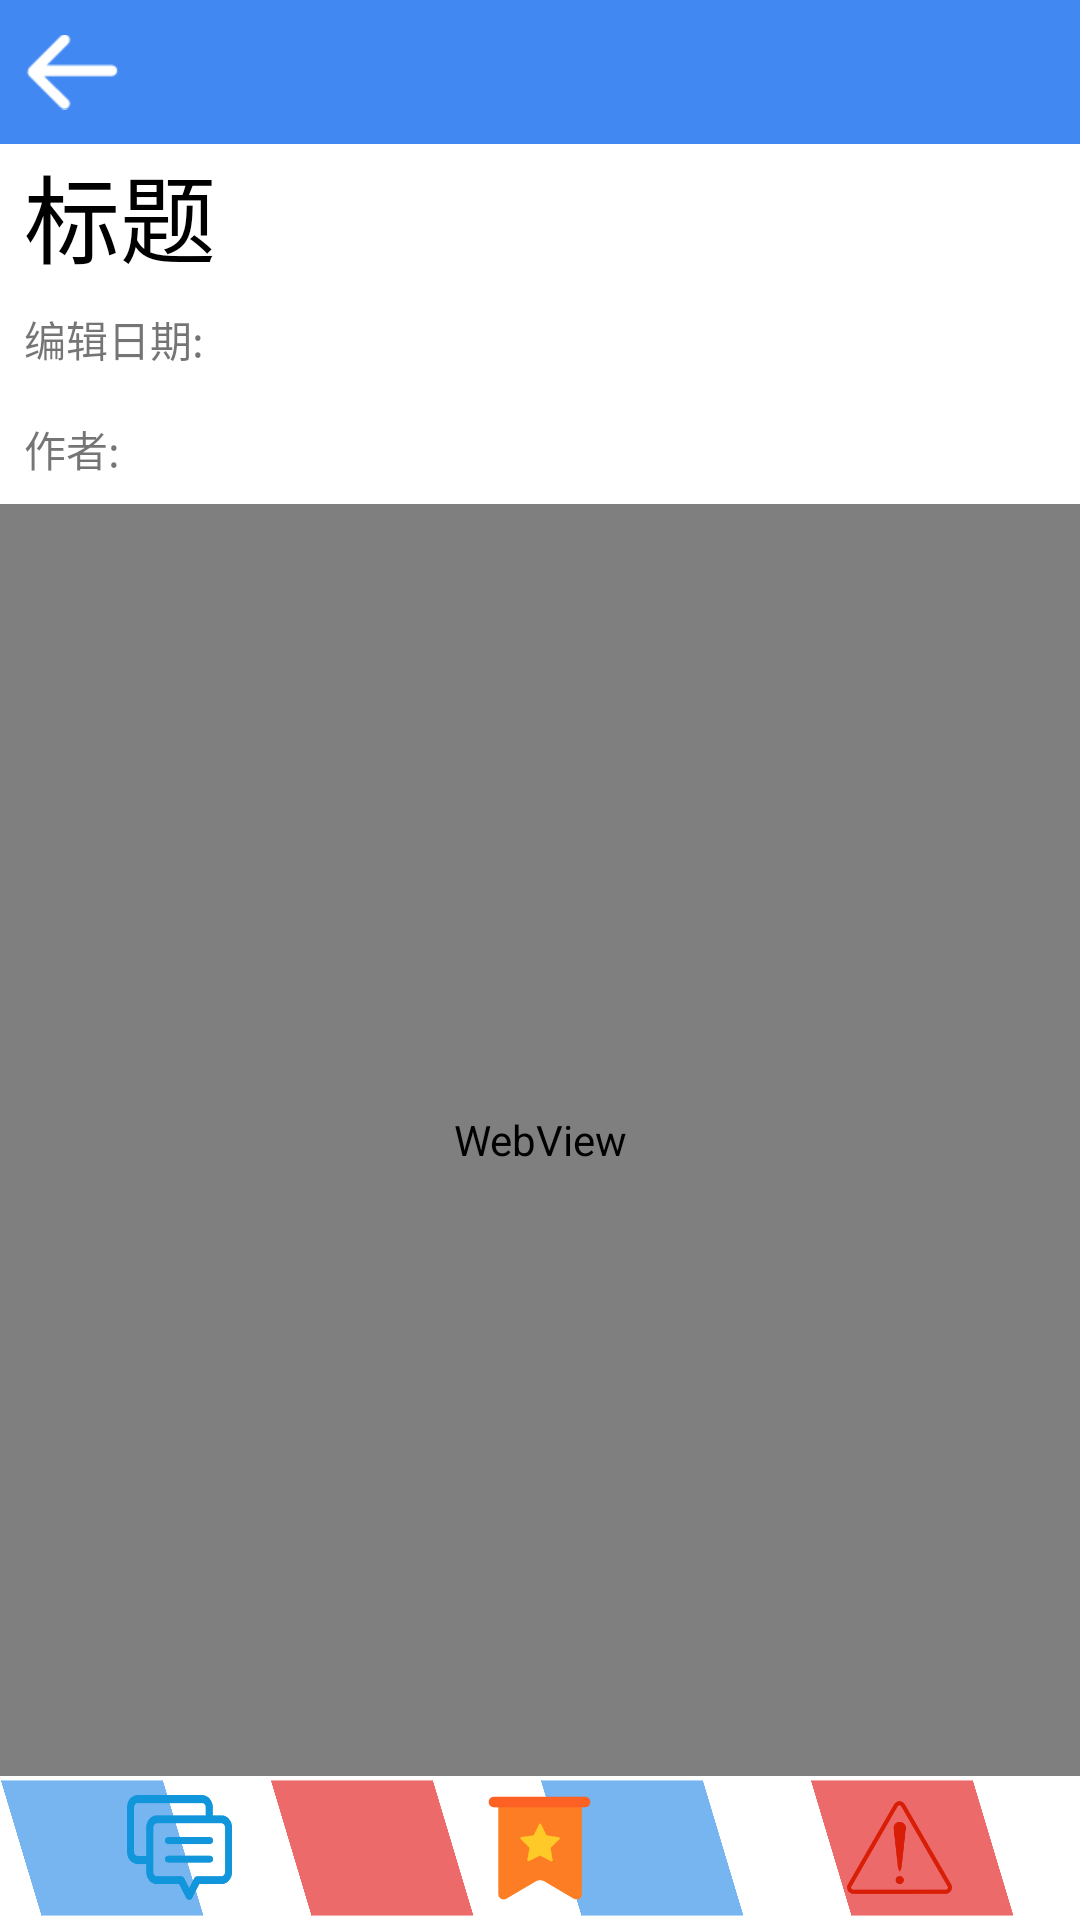

Icons on this 1080px×1920px Android screen, each with the point to tap as [x,y]:
back: [72,72]
comment: [179,1847]
report: [899,1847]
star on: [539,1847]
